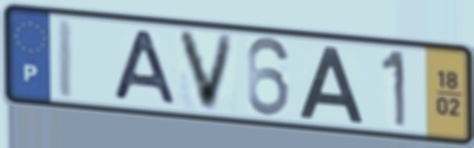1: (379, 49, 408, 131)
6: (245, 35, 293, 120)
A: (296, 44, 366, 125), (109, 27, 179, 107)
I: (54, 16, 77, 103)
V: (173, 27, 239, 115)
